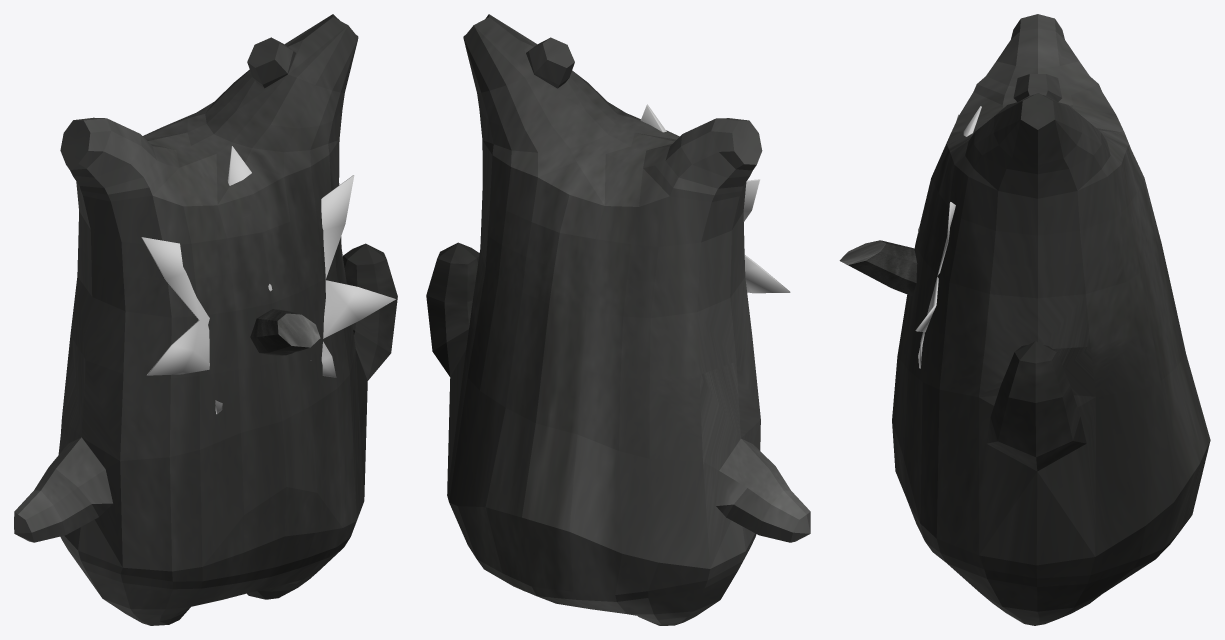
The model's file is frame_0039.obj.
3 views of the same model, side by side, from view 1: azimuth 30°, elevation 25°; view 2: azimuth 150°, elevation 25°; view 3: azimuth 270°, elevation 25° (orthographic).
Parts seen in each view (by area): view 1: korok, leaf.003_柱体.013, nose.003_柱体.011; view 2: korok, leaf.003_柱体.013; view 3: korok, nose.003_柱体.011, leaf.003_柱体.013.
Boxes of the visible parts, box(x1,y1,x2,y2) form: korok: box(14, 14, 397, 625); leaf.003_柱体.013: box(141, 146, 395, 414); nose.003_柱体.011: box(250, 309, 320, 355); korok: box(426, 14, 810, 625); leaf.003_柱体.013: box(640, 104, 790, 293); korok: box(892, 14, 1210, 625); nose.003_柱体.011: box(839, 240, 917, 295); leaf.003_柱体.013: box(915, 106, 981, 368).
Size of the model in its own units: 1.6 by 2.27 by 1.36.
